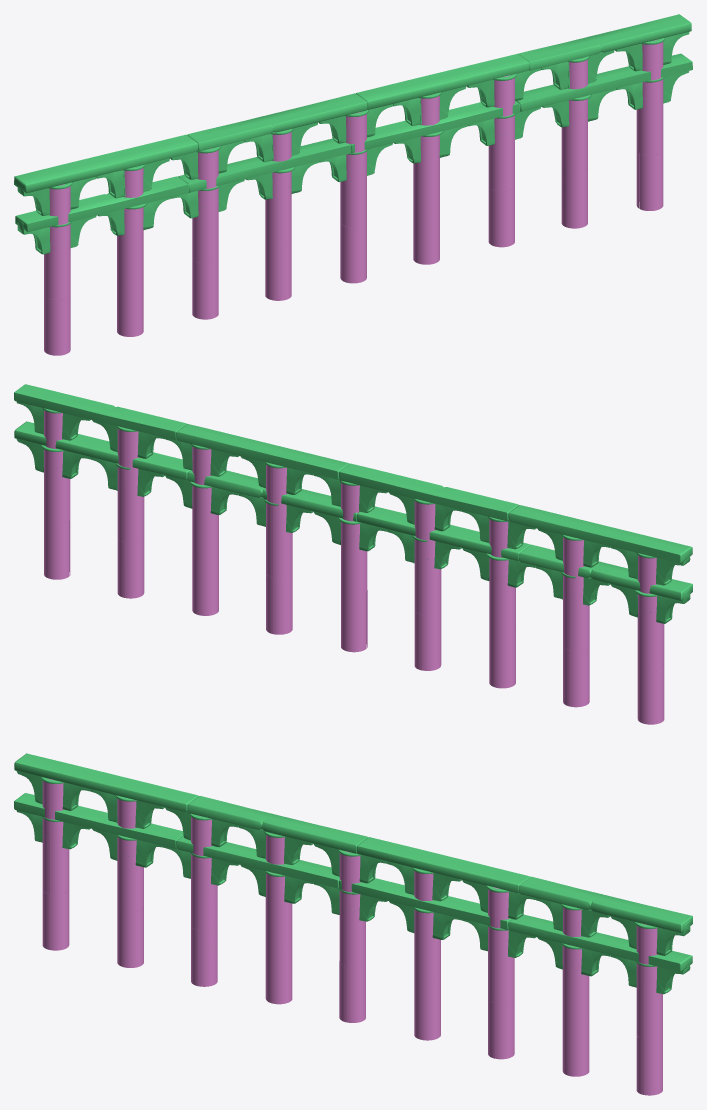
File: columns.fbx
The picture shows the model from 3 angles, top to bottom: view 1: azimuth 30°, elevation 25°; view 2: azimuth 150°, elevation 25°; view 3: azimuth 330°, elevation 25°; orthographic projection.
Visible parts, largest first — view 1: columns; view 2: columns; view 3: columns.
Part boxes in pixels (x1=…): columns: x1=14, y1=14, x2=692, y2=355; columns: x1=14, y1=384, x2=692, y2=724; columns: x1=14, y1=753, x2=692, y2=1095.
Bounding box in the file's own units: 29.9 × 7.62 × 1.22.
